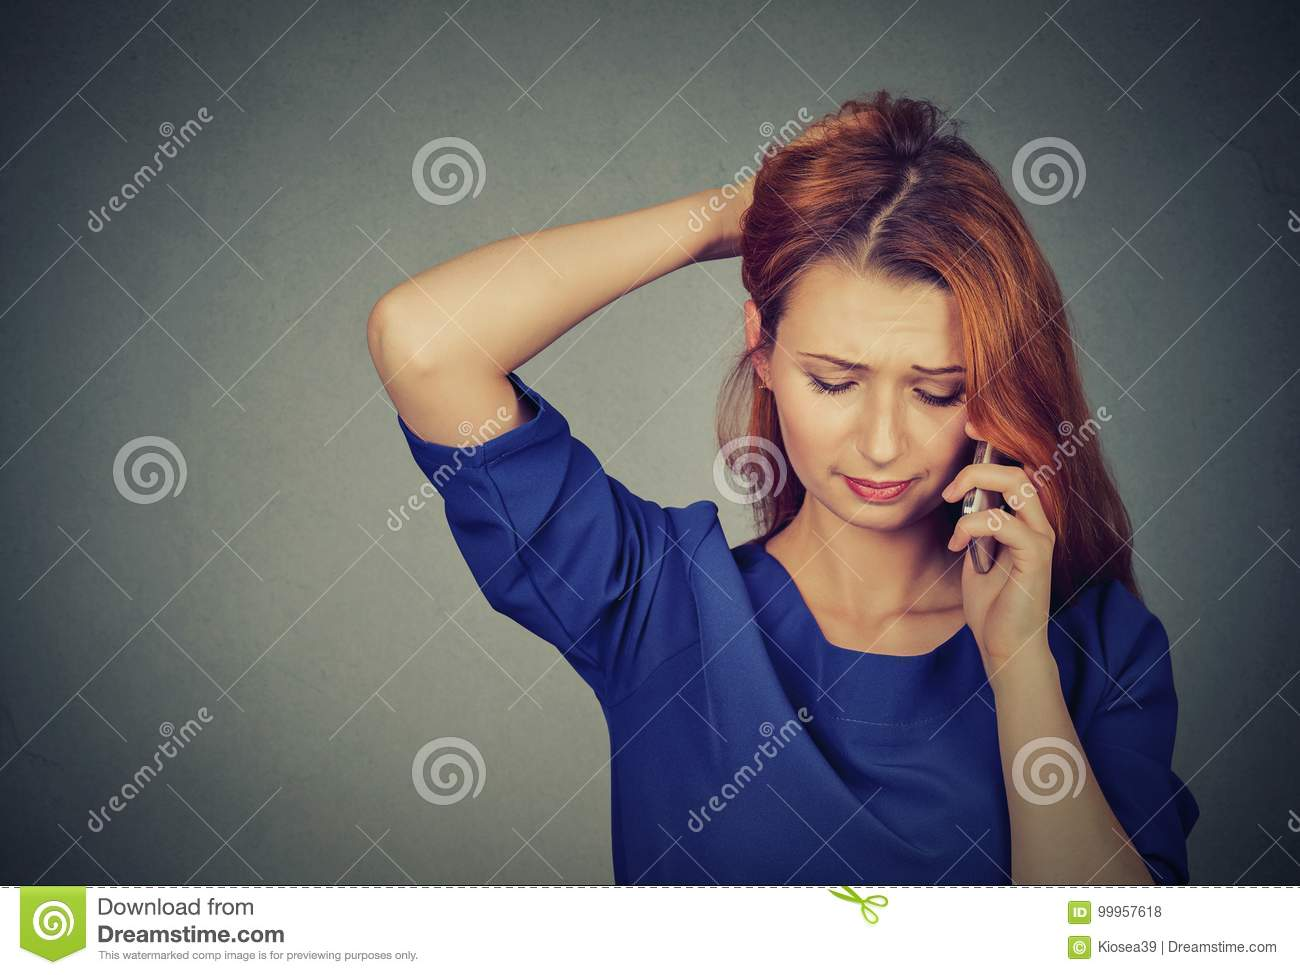phone: (958, 412, 1011, 575)
talk: (781, 338, 1057, 686)
